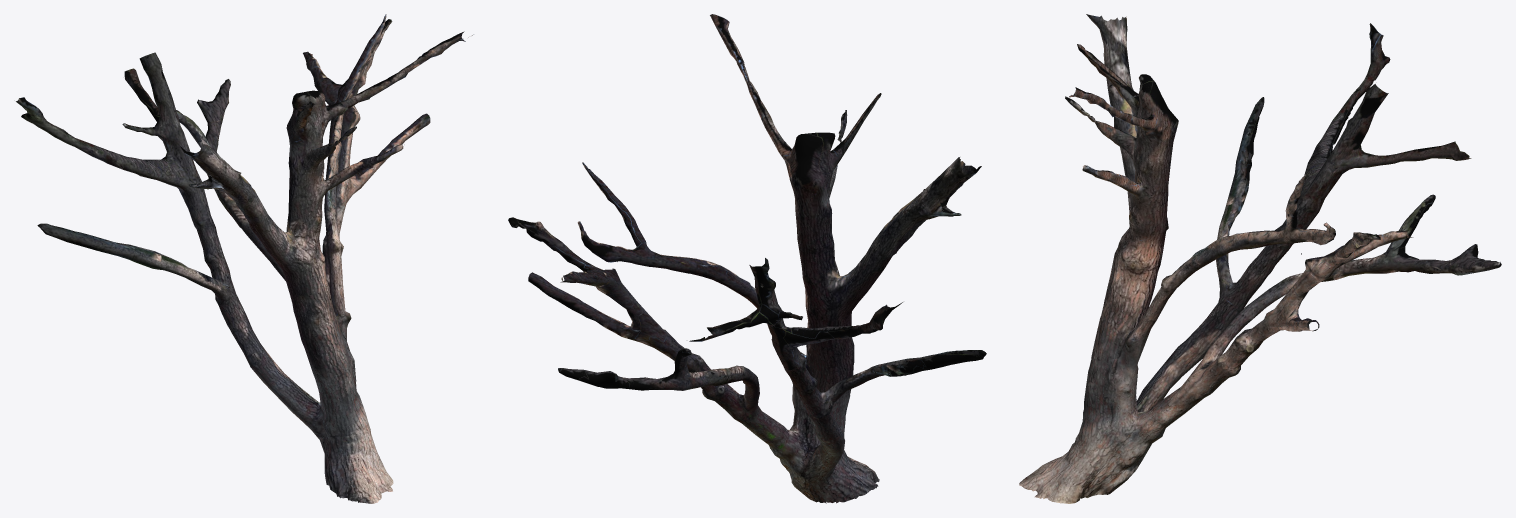
File: tree_snag_lean.glb
3 renders of one model, left to right at view 1: azimuth 30°, elevation 25°; view 2: azimuth 150°, elevation 25°; view 3: azimuth 270°, elevation 25°, orthographic. The views are drawn at different scales.
Parts seen in each view (by area): view 1: tree_snag_lean; view 2: tree_snag_lean; view 3: tree_snag_lean.
Boxes of the visible parts, x1,y1,x2,y2 form: tree_snag_lean: [16, 14, 473, 503]; tree_snag_lean: [508, 14, 986, 503]; tree_snag_lean: [1019, 14, 1501, 503].
Size of the model in its own units: 18.47 by 18.2 by 17.27.
1 material, 1 textured.
